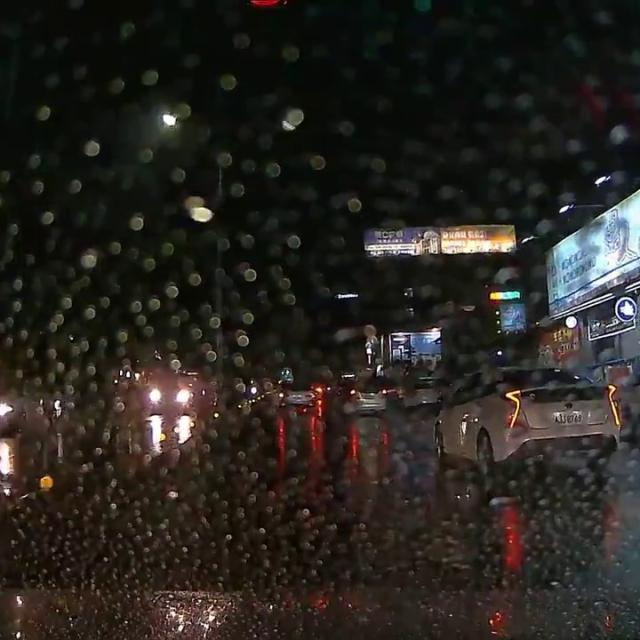Car: (430, 360, 619, 480), (143, 375, 204, 417), (341, 376, 389, 421), (398, 374, 451, 406), (275, 383, 319, 409)
